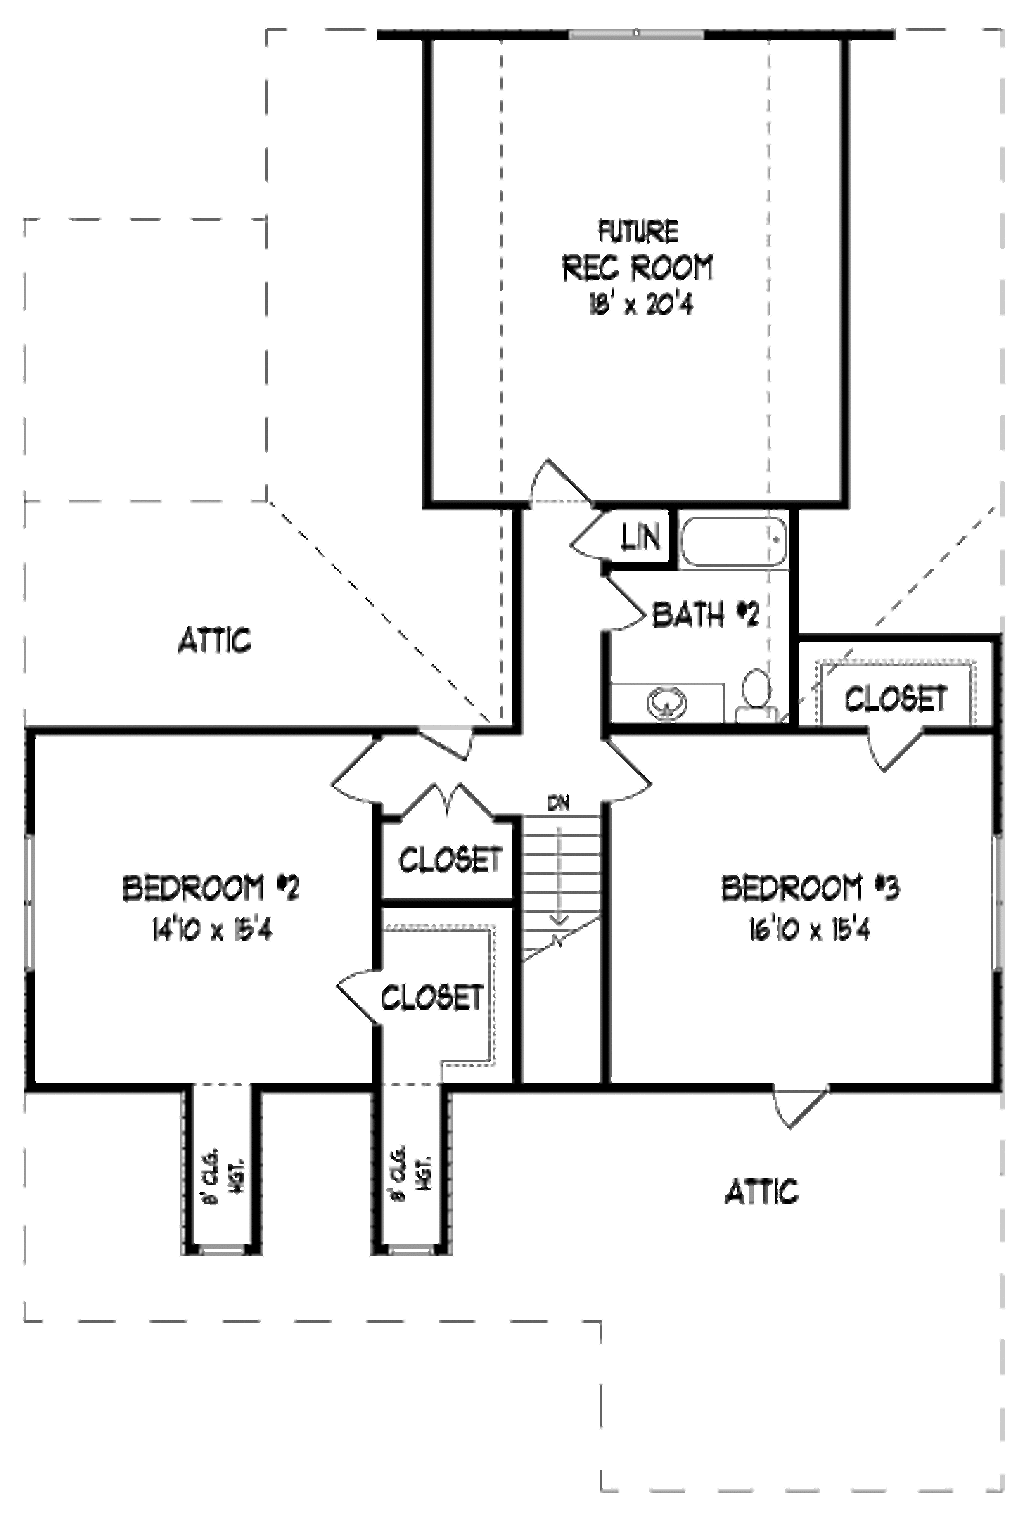door: (742, 1069, 849, 1162), (378, 773, 504, 828), (590, 564, 667, 650), (511, 446, 595, 504), (321, 960, 390, 1024), (326, 747, 397, 809), (866, 716, 928, 776), (599, 740, 649, 806), (566, 501, 616, 565), (423, 721, 485, 764)
large_sink: (728, 659, 785, 735)
small_sink: (630, 681, 699, 728)
stairs: (509, 819, 626, 1093)
tub: (664, 504, 795, 569)
window: (11, 833, 57, 976), (983, 830, 1009, 971), (561, 29, 718, 45), (187, 1243, 257, 1262), (376, 1243, 437, 1262)
